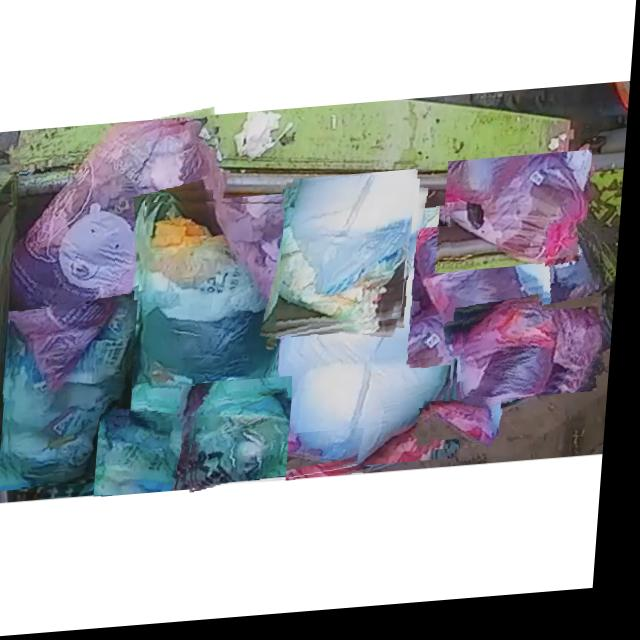general_trashbag: (147, 206, 285, 422), (14, 304, 142, 486), (201, 387, 297, 494), (103, 418, 192, 497), (549, 233, 602, 320)
other_trashbag: (17, 121, 220, 389), (284, 220, 468, 473), (284, 185, 414, 333), (422, 233, 552, 362), (454, 163, 592, 272), (469, 313, 608, 404), (293, 439, 367, 485), (437, 410, 501, 455)
